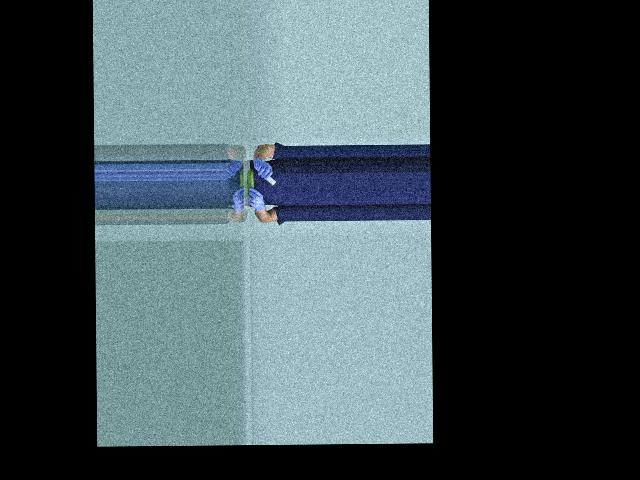cucumber: (246, 168, 254, 196)
